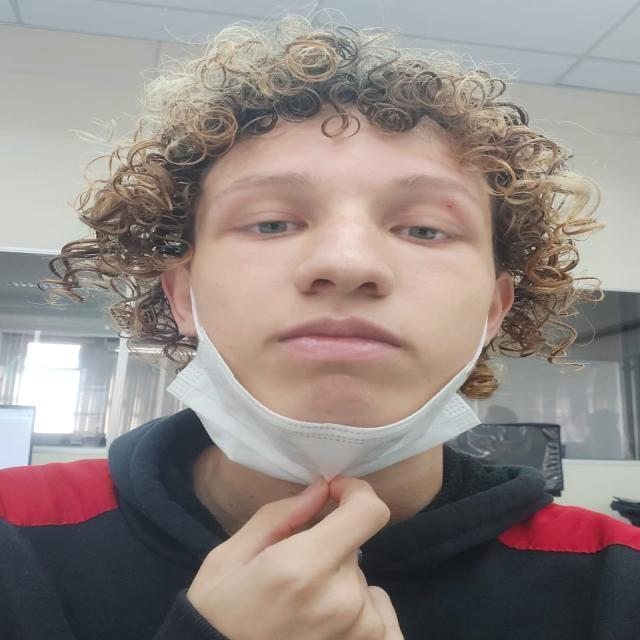hairnet: (190, 144, 478, 463)
